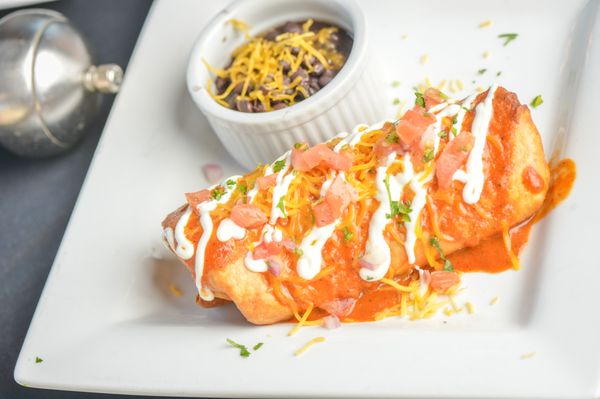soup: (182, 84, 574, 326)
sushi: (185, 1, 371, 170)
